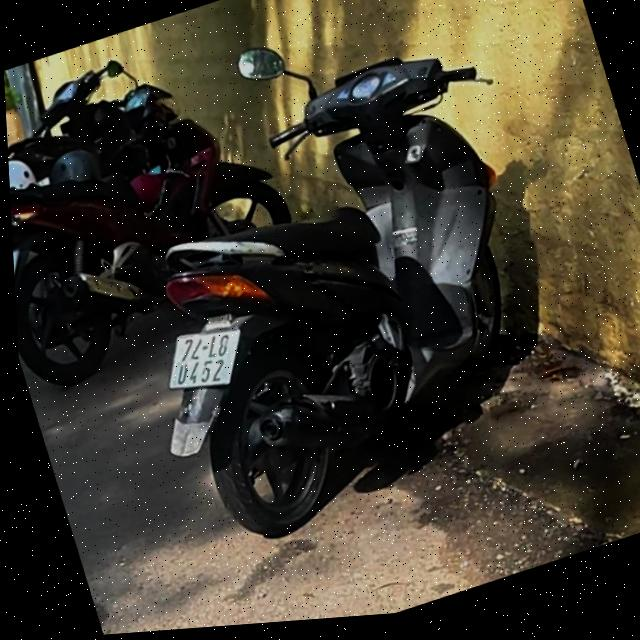motorcycle: (99, 126, 595, 563), (5, 81, 319, 385)
plate: (154, 311, 257, 406), (12, 234, 36, 298)
